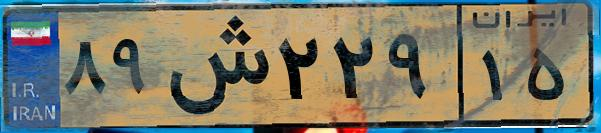1: (475, 38, 525, 113)
2: (270, 28, 330, 110), (330, 28, 385, 110)
5: (525, 38, 570, 115)
8: (57, 26, 110, 100)
9: (385, 28, 445, 110), (110, 28, 158, 98)
ش: (158, 12, 270, 120)
